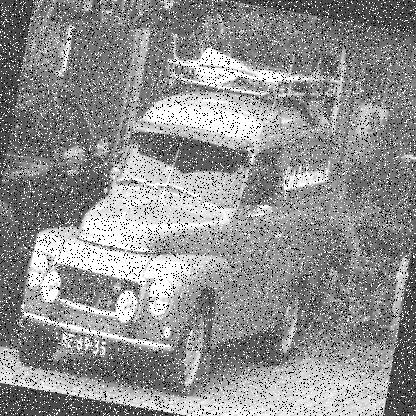Car: (14, 17, 355, 414), (0, 63, 142, 365)
